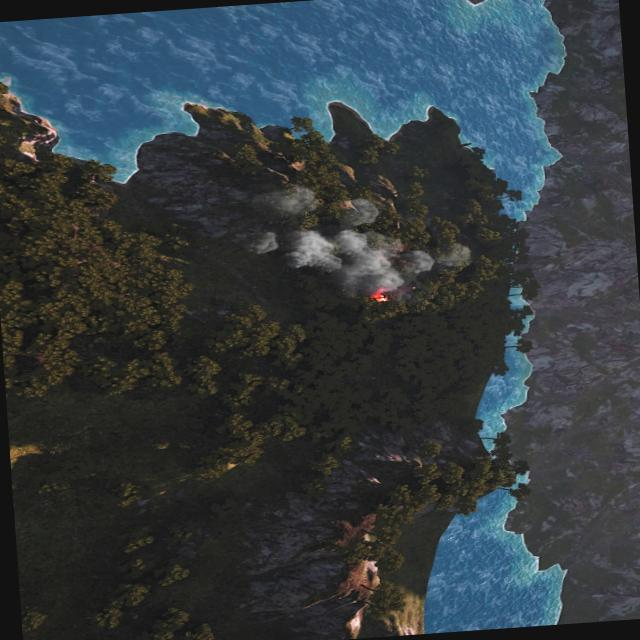fire: (368, 286, 389, 301)
smoke: (249, 174, 483, 316)
